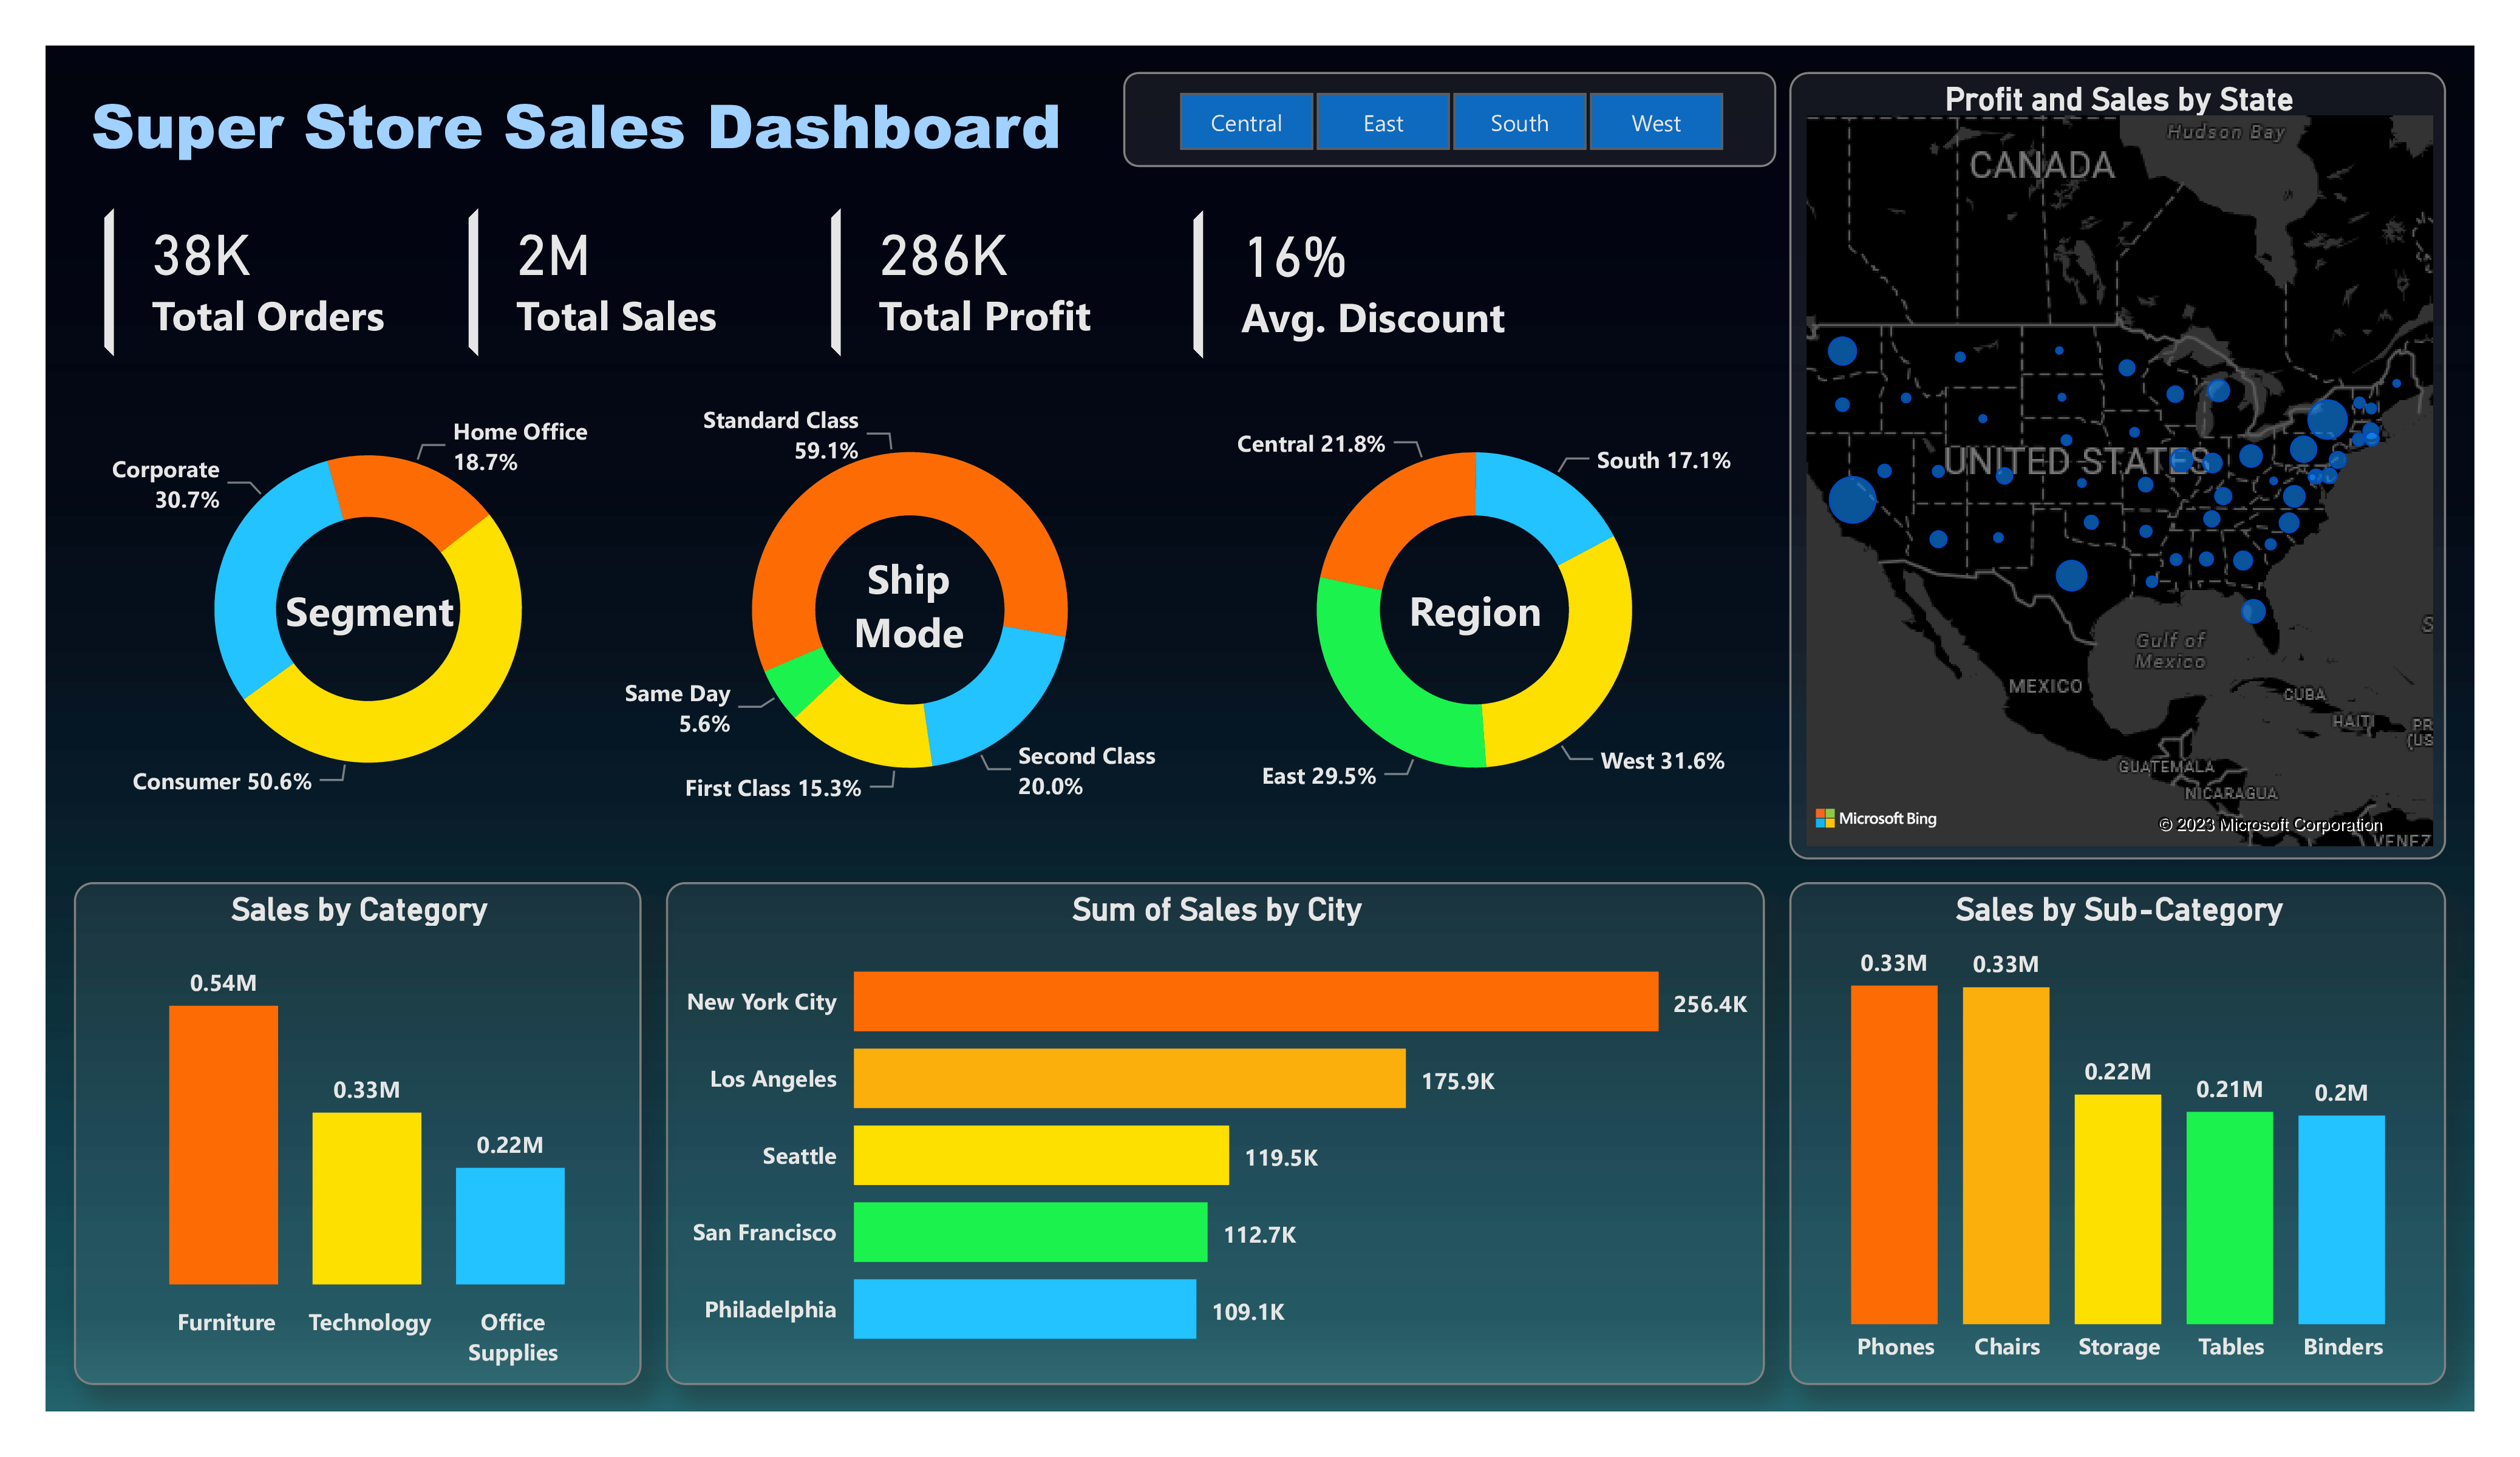

Layout of this report page (visuals, bound fields, positions):
{"tool":"powerbi","page":{"name":"Page 1","canvas":[1280,720],"ordinal":0},"visuals":[{"type":"donutChart","title":"Sales by Region","fields":{"Y":["Sum(SampleSuperstore.Sales)"],"Category":["SampleSuperstore.Region"]},"box":[600.5,175.1,305.8,244.6],"z":0},{"type":"donutChart","title":"Sales by Segment","fields":{"Y":["Sum(SampleSuperstore.Sales)"],"Category":["SampleSuperstore.Segment"]},"box":[26.4,175.1,287.7,244],"z":1000},{"type":"clusteredBarChart","title":"Sum of Sales by City","fields":{"Category":["SampleSuperstore.City"],"Y":["Sum(SampleSuperstore.Sales)"]},"box":[326.6,440.6,579.6,265.5],"z":2000},{"type":"textbox","box":[19.5,13.9,549,55.6],"z":3000},{"type":"cardVisual","title":"Total Orders","fields":{"Data":["Sum(SampleSuperstore.Quantity)"]},"box":[26.4,60.5,183.5,114],"z":4000},{"type":"cardVisual","title":"Total Orders","fields":{"Data":["Sum(SampleSuperstore.Sales)"]},"box":[217.8,60.5,183.5,114],"z":5000},{"type":"cardVisual","title":"Total Orders","fields":{"Data":["Sum(SampleSuperstore.Profit)"]},"box":[409.1,60.5,183.5,114],"z":6000},{"type":"textbox","box":[98.7,278,144.6,37.5],"z":7000},{"type":"textbox","box":[681.1,278,144.6,37.5],"z":8000},{"type":"clusteredColumnChart","title":"Sales by Sub-Category","fields":{"Category":["SampleSuperstore.Sub-Category"],"Y":["Sum(SampleSuperstore.Sales)"]},"box":[918.8,440.6,346.1,265.5],"z":9000},{"type":"clusteredColumnChart","title":"Sales by Category","fields":{"Y":["Sum(SampleSuperstore.Sales)"],"Category":["SampleSuperstore.Category"]},"box":[15.3,440.6,298.8,265.5],"z":10000},{"type":"cardVisual","title":"Total Orders","fields":{"Data":["Avg(SampleSuperstore.Discount)"]},"box":[600.5,61.2,202.9,114],"z":11000},{"type":"donutChart","title":"Sales by Segment","fields":{"Y":["Sum(SampleSuperstore.Sales)"],"Category":["SampleSuperstore.Ship Mode"]},"box":[301.6,175.1,307.2,244.6],"z":12000},{"type":"textbox","box":[403.1,261.3,104.2,72.3],"z":13000},{"type":"map","title":"Profit and Sales by State","fields":{"Size":["Sum(SampleSuperstore.Sales)"],"Category":["SampleSuperstore.State"]},"box":[918.8,13.9,346.1,415.6],"z":14000},{"type":"slicer","fields":{"Values":["SampleSuperstore.Region"]},"box":[568.5,13.9,343.3,50],"z":15000}]}

Visuals, with their boxes in screenshot pixels (x1, y1, x2, y2):
"Sales by Region" donutChart: l=1185, t=378, r=1765, b=842
"Sales by Segment" donutChart: l=96, t=378, r=642, b=841
"Sum of Sales by City" clusteredBarChart: l=666, t=881, r=1765, b=1385
textbox: l=83, t=72, r=1125, b=177
"Total Orders" cardVisual: l=96, t=160, r=444, b=376
"Total Orders" cardVisual: l=459, t=160, r=807, b=376
"Total Orders" cardVisual: l=822, t=160, r=1170, b=376
textbox: l=233, t=573, r=507, b=644
textbox: l=1338, t=573, r=1612, b=644
"Sales by Sub-Category" clusteredColumnChart: l=1789, t=881, r=2446, b=1385
"Sales by Category" clusteredColumnChart: l=75, t=881, r=642, b=1385
"Total Orders" cardVisual: l=1185, t=161, r=1570, b=378
"Sales by Segment" donutChart: l=618, t=378, r=1200, b=842
textbox: l=811, t=542, r=1008, b=679
"Profit and Sales by State" map: l=1789, t=72, r=2446, b=860
slicer - SampleSuperstore.Region: l=1125, t=72, r=1776, b=167
